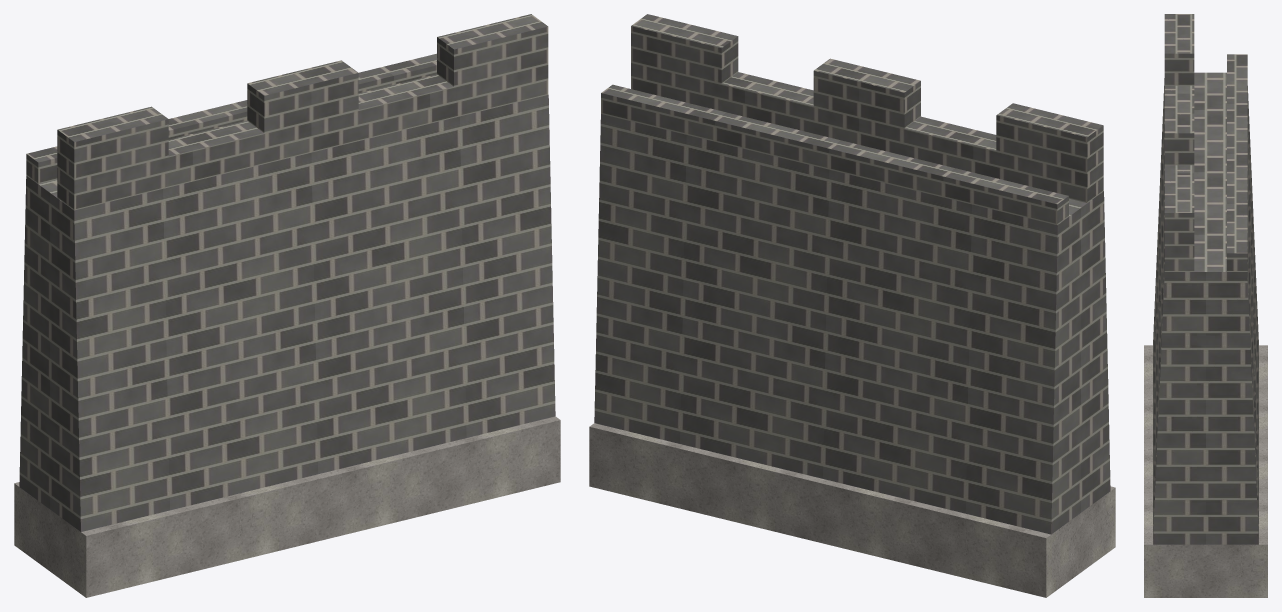
File: city_wall.glb
3 views of the same model, side by side, from view 1: azimuth 30°, elevation 25°; view 2: azimuth 150°, elevation 25°; view 3: azimuth 270°, elevation 25° (orthographic). The views are drawn at different scales.
Parts seen in each view (by area): view 1: WallBody, WallMerlons, WallPlinth; view 2: WallBody, WallMerlons, WallPlinth; view 3: WallBody, WallMerlons, WallPlinth.
Part boxes in pixels (box(x1,y1,x2,y2)): WallBody: box(19, 95, 555, 531); WallMerlons: box(26, 14, 548, 210); WallPlinth: box(14, 416, 560, 597); WallBody: box(594, 114, 1110, 534); WallMerlons: box(601, 14, 1103, 225); WallPlinth: box(589, 423, 1115, 597); WallBody: box(1153, 72, 1258, 544); WallMerlons: box(1164, 14, 1247, 271); WallPlinth: box(1144, 345, 1267, 597).
Size of what is drawn, in the model's own units: 8 by 7.2 by 2.1.
Materials: 2 (2 with a texture image).
